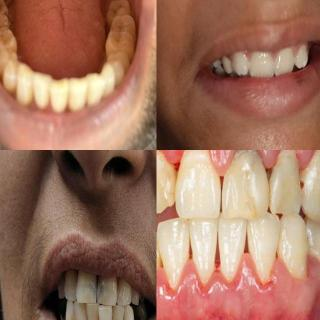Gum Swelling: (205, 257, 273, 314), (156, 263, 209, 313), (271, 262, 310, 315), (305, 259, 320, 299)
calculus: (224, 150, 266, 178), (70, 308, 80, 320)
cavities: (90, 272, 108, 300), (110, 0, 126, 14)
maligned: (279, 212, 309, 280), (160, 216, 186, 290), (274, 150, 302, 215), (65, 269, 77, 303), (294, 46, 308, 72), (74, 298, 90, 320), (98, 300, 112, 320), (86, 300, 100, 320)
